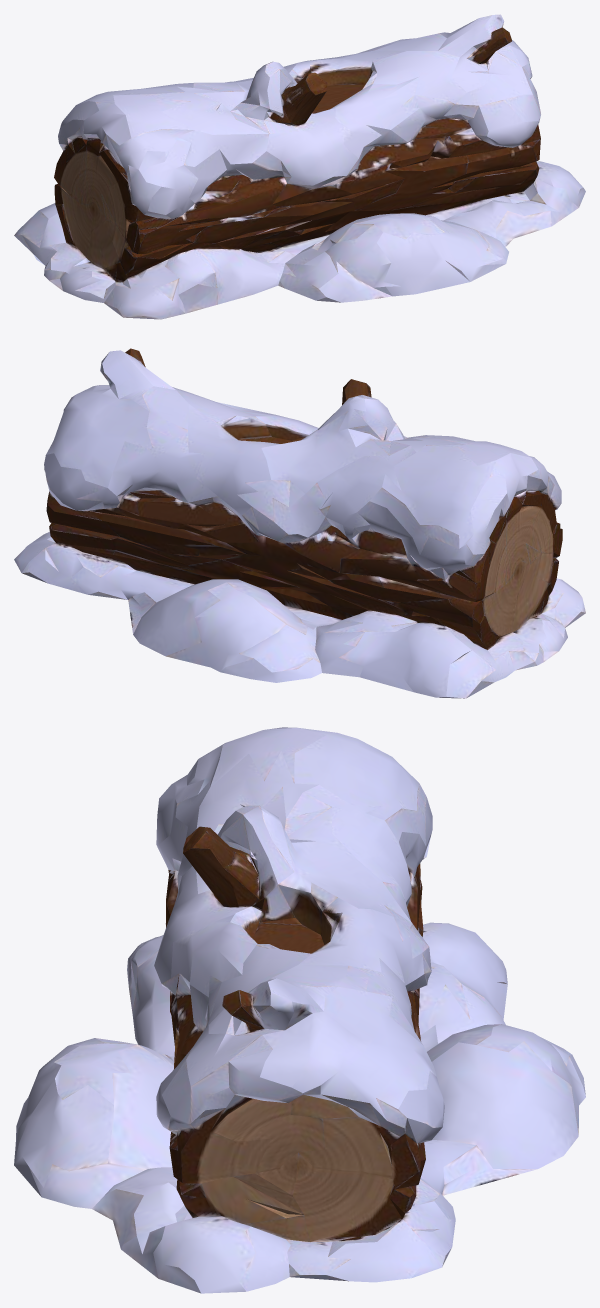
Rendered from log.glb.
The picture shows the model from 3 angles, top to bottom: view 1: azimuth 30°, elevation 25°; view 2: azimuth 150°, elevation 25°; view 3: azimuth 270°, elevation 25°; orthographic projection. The views are drawn at different scales.
Parts seen in each view (by area): view 1: output_unwrapped; view 2: output_unwrapped; view 3: output_unwrapped.
Boxes of the visible parts, box(x1,y1,x2,y2) form: output_unwrapped: box(14, 14, 585, 319); output_unwrapped: box(14, 348, 585, 698); output_unwrapped: box(14, 727, 585, 1293).
Bounding box in the file's own units: 1.9 × 0.685 × 1.29.
1 material, 1 textured.
